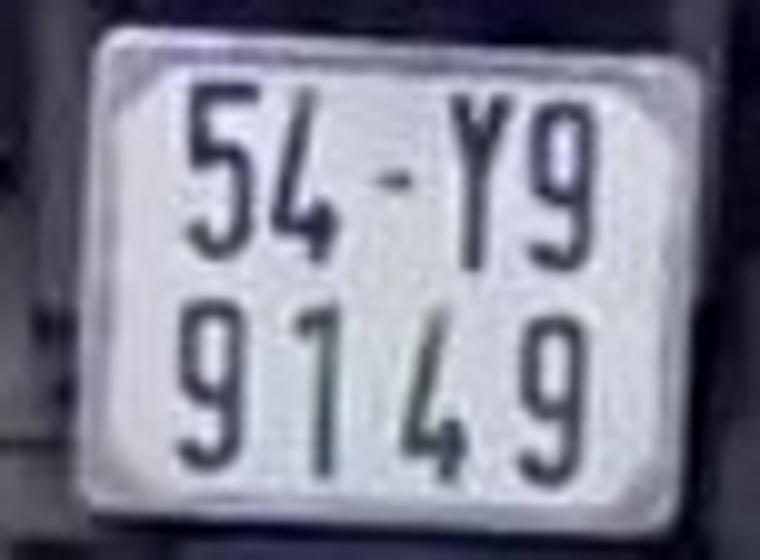-: (369, 156, 413, 198)
1: (290, 297, 351, 488)
4: (391, 298, 473, 488), (275, 82, 341, 267)
5: (186, 72, 262, 271)
9: (168, 295, 249, 476), (518, 313, 594, 489), (527, 96, 598, 278)
Y: (443, 86, 514, 276)
